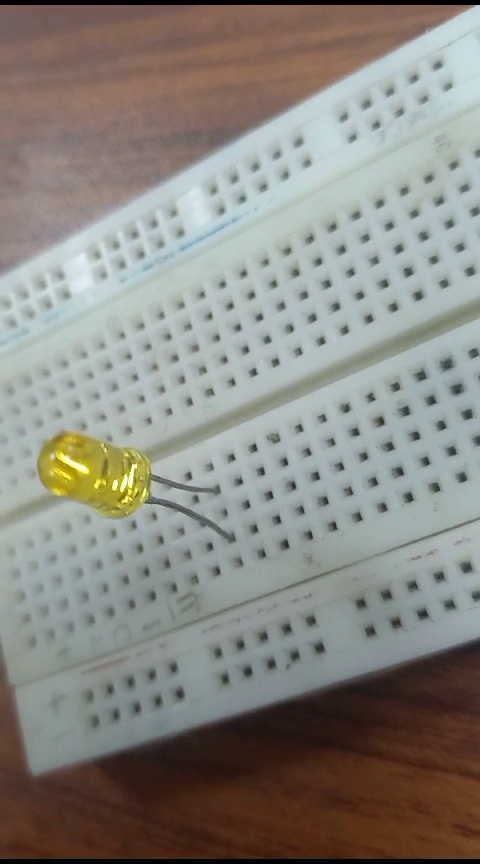LED: (31, 421, 254, 552)
